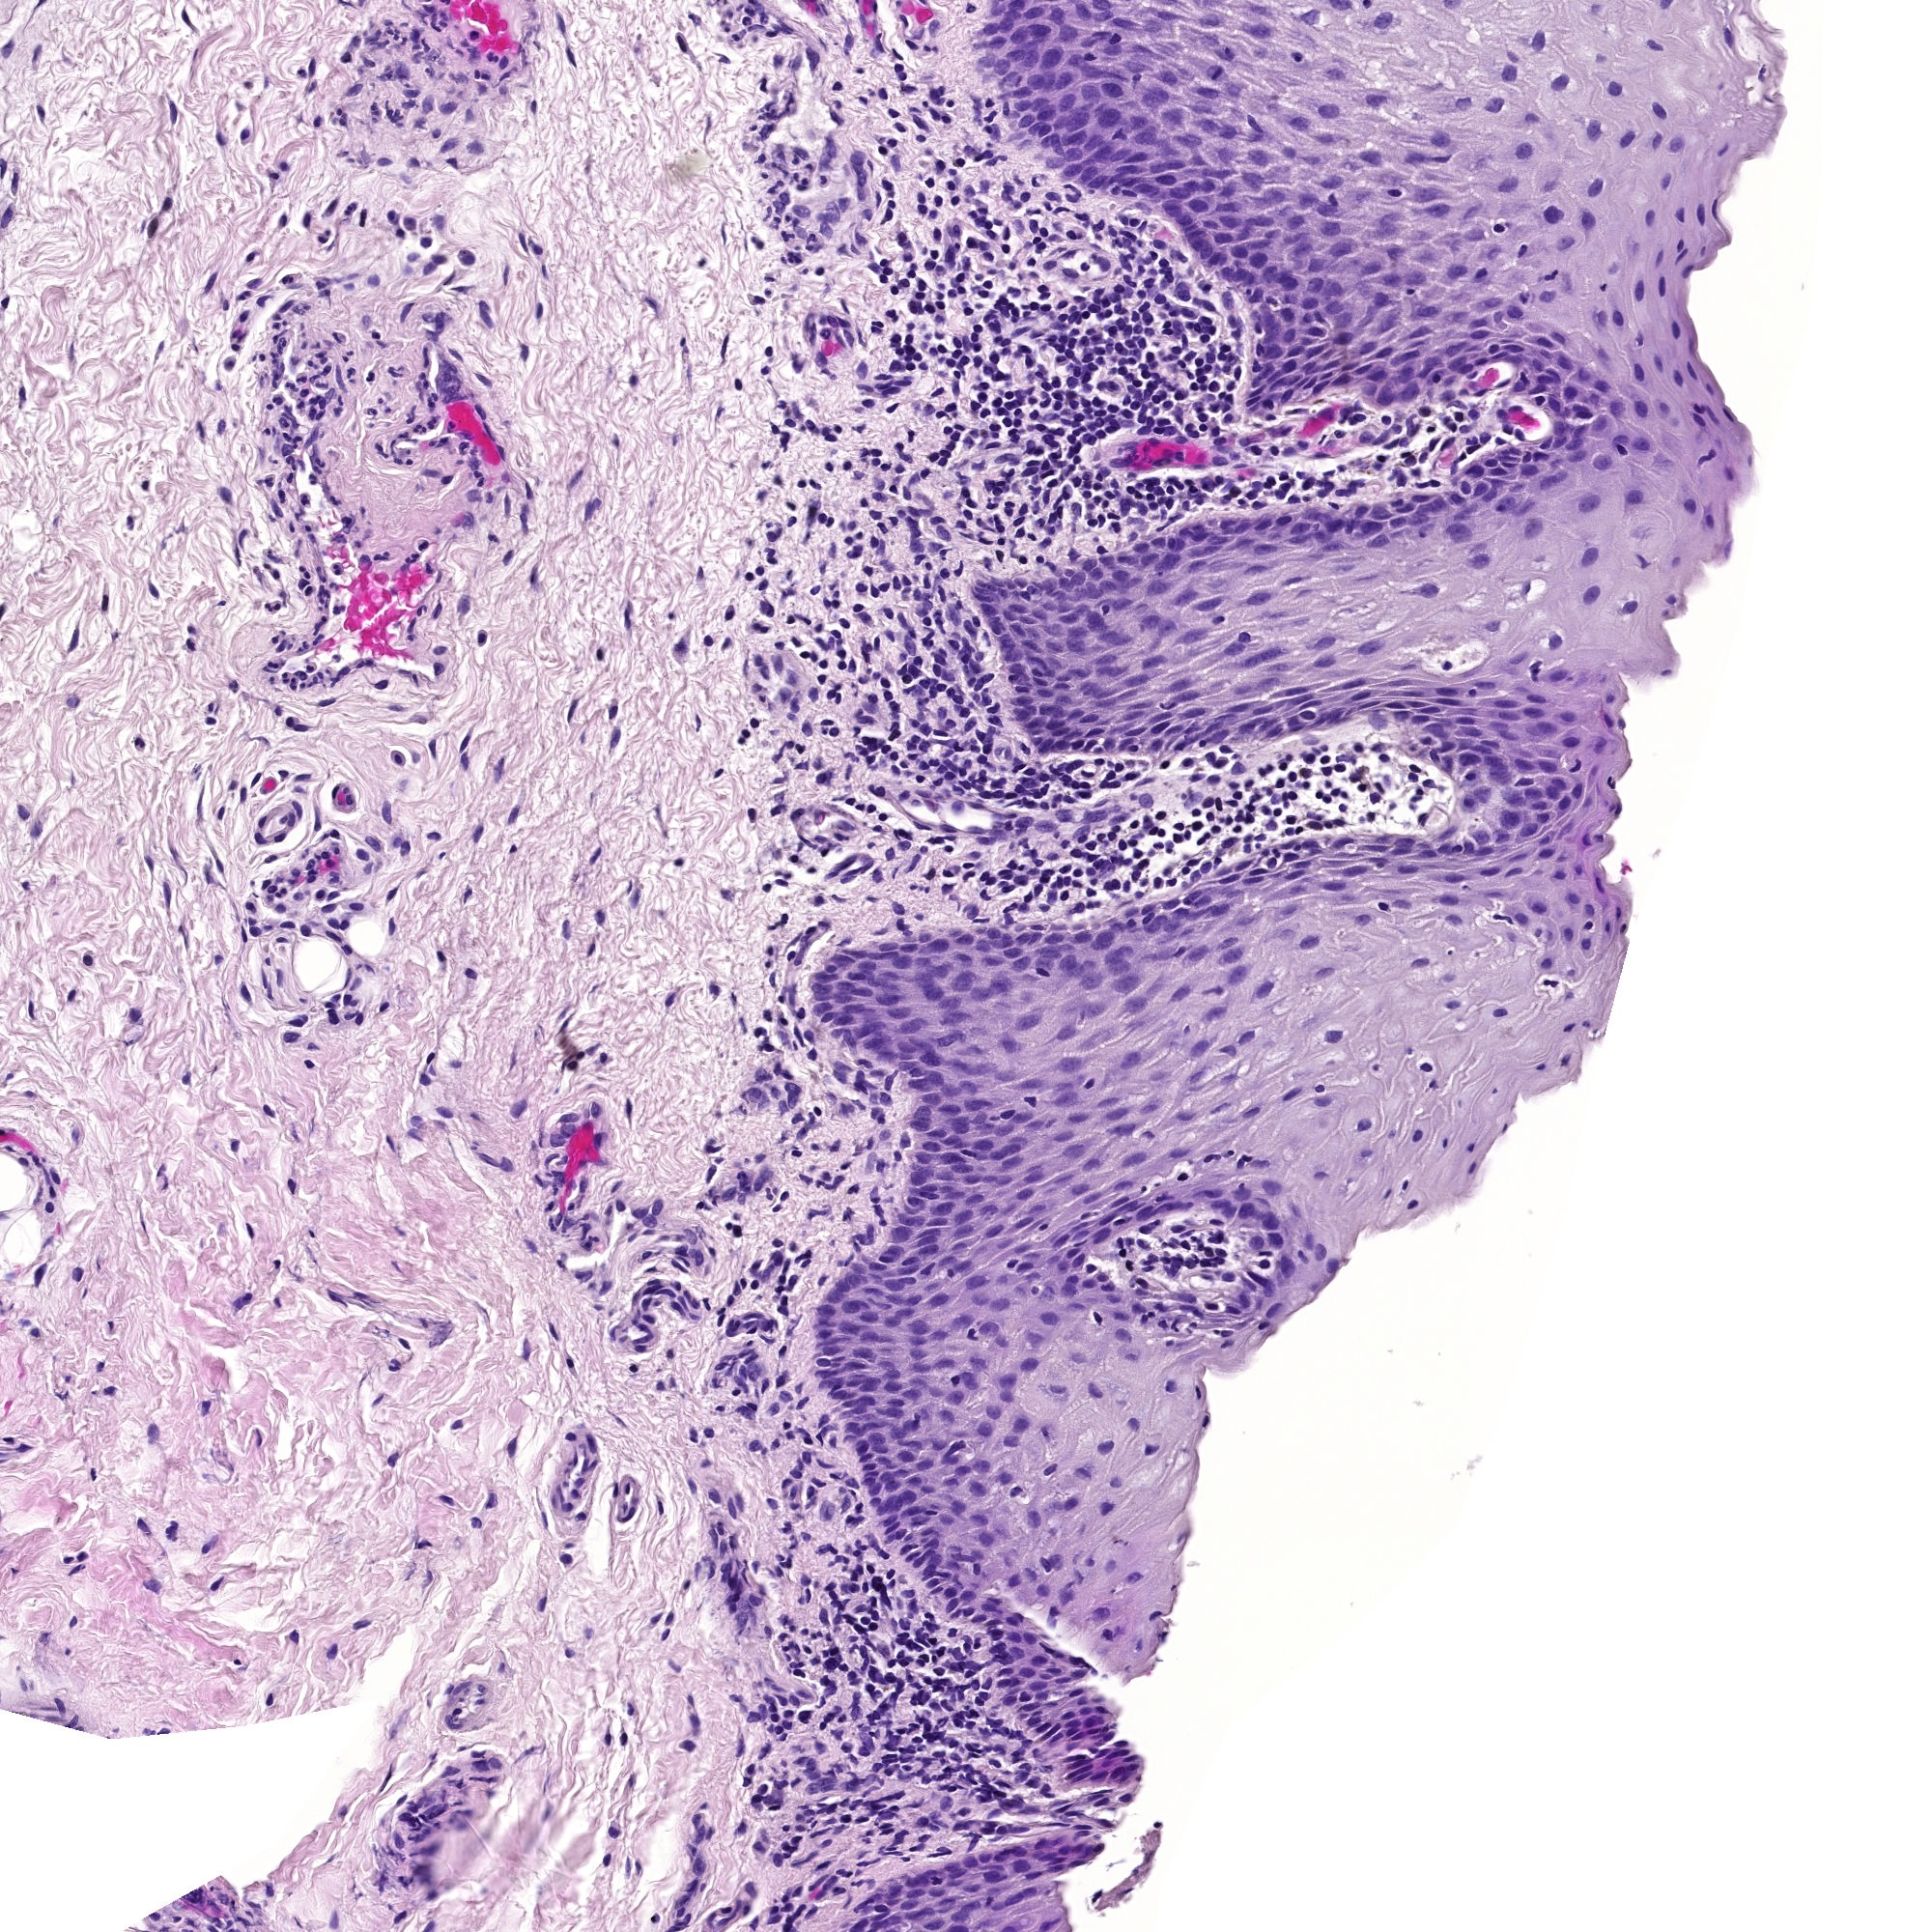epithelial: (1033, 78, 1040, 88), (1047, 57, 1054, 65), (1106, 113, 1113, 122), (1086, 88, 1093, 97), (1226, 205, 1235, 212), (1599, 458, 1608, 465), (1688, 366, 1695, 375), (1495, 771, 1506, 777), (1520, 778, 1530, 784), (1028, 57, 1035, 64), (1054, 12, 1062, 19), (1079, 9, 1086, 16), (1150, 96, 1157, 103), (1235, 249, 1242, 257), (1479, 271, 1486, 278), (1589, 501, 1596, 508), (1589, 593, 1596, 600), (1258, 258, 1263, 267), (1338, 377, 1346, 382), (1541, 377, 1550, 382), (922, 977, 931, 982), (1134, 1001, 1143, 1007), (1046, 78, 1053, 83), (1019, 101, 1024, 108), (1054, 145, 1062, 150), (1053, 159, 1058, 166), (1069, 152, 1074, 159), (1141, 186, 1146, 193), (1164, 177, 1169, 184), (1143, 133, 1150, 138), (1171, 117, 1178, 122), (1299, 120, 1304, 127), (1237, 272, 1244, 278), (1316, 262, 1322, 269), (1373, 96, 1378, 103), (1258, 28, 1265, 34), (1258, 200, 1263, 207), (1261, 219, 1269, 225), (1329, 226, 1334, 234), (1490, 301, 1495, 308), (1640, 442, 1645, 449), (1631, 495, 1638, 501), (1530, 527, 1537, 533), (1587, 556, 1592, 563), (1376, 510, 1384, 515), (1614, 405, 1619, 412), (1529, 709, 1534, 717), (1557, 672, 1562, 679), (885, 994, 890, 1001), (980, 943, 985, 950), (1077, 119, 1081, 127), (1493, 101, 1497, 110), (1663, 403, 1667, 412), (1453, 529, 1461, 533), (886, 945, 895, 948), (1019, 90, 1024, 96), (1100, 152, 1106, 157), (1136, 120, 1141, 126), (1168, 76, 1173, 81), (1155, 166, 1161, 172), (1177, 191, 1182, 196), (1208, 223, 1214, 228), (1258, 156, 1263, 161), (1164, 12, 1169, 18), (1100, 2, 1106, 7), (1309, 16, 1315, 21), (1277, 193, 1283, 198), (1293, 219, 1299, 225), (1284, 311, 1290, 317), (1315, 329, 1320, 334), (1453, 271, 1458, 276), (1428, 311, 1433, 317), (1405, 372, 1410, 377), (1511, 345, 1516, 350), (1591, 186, 1596, 191), (1647, 214, 1652, 219), (1637, 288, 1642, 294), (1536, 39, 1541, 44), (1396, 522, 1401, 527), (1394, 501, 1399, 506), (1139, 545, 1145, 550), (1051, 660, 1056, 665), (1546, 750, 1552, 755), (1477, 833, 1483, 839), (1451, 918, 1456, 924), (943, 1037, 948, 1042), (961, 978, 966, 984), (947, 1155, 952, 1161), (943, 1171, 948, 1177), (1067, 961, 1072, 966), (1111, 954, 1116, 959), (1007, 1145, 1012, 1150), (941, 1207, 947, 1212), (1162, 46, 1168, 51), (1332, 71, 1338, 76), (1122, 637, 1127, 642), (1039, 27, 1042, 34), (1062, 80, 1065, 87), (1044, 140, 1051, 143), (1072, 168, 1076, 175), (1173, 163, 1180, 166), (1223, 237, 1230, 241), (1118, 23, 1125, 27), (1311, 285, 1318, 288), (1286, 364, 1290, 372), (1504, 184, 1511, 188), (1548, 214, 1555, 218), (1660, 285, 1663, 292), (1559, 80, 1562, 87), (1640, 405, 1644, 412), (1686, 506, 1693, 510), (1414, 518, 1421, 522), (1560, 361, 1568, 364), (1582, 375, 1589, 379), (1479, 487, 1486, 490), (1376, 540, 1384, 543), (1477, 745, 1481, 752), (1578, 867, 1582, 874), (1568, 931, 1571, 938), (1419, 961, 1426, 964), (881, 954, 888, 957), (918, 1125, 925, 1129), (1086, 978, 1093, 982), (996, 41, 1000, 46), (1000, 65, 1005, 69), (1017, 35, 1021, 41), (1031, 11, 1035, 16), (1037, 103, 1040, 108), (1088, 172, 1092, 177), (1060, 122, 1063, 127), (1074, 136, 1077, 142), (1095, 180, 1099, 186), (1109, 88, 1115, 92), (1065, 30, 1069, 35), (1129, 170, 1134, 173), (1169, 203, 1175, 207), (1173, 211, 1178, 214), (1205, 249, 1208, 255), (1196, 205, 1201, 209), (1226, 189, 1230, 195), (1226, 131, 1230, 136), (1207, 124, 1210, 129), (1189, 140, 1194, 143), (1329, 108, 1332, 113), (1329, 138, 1332, 143), (1247, 278, 1251, 283), (1290, 283, 1293, 288), (1226, 271, 1230, 276), (1369, 156, 1373, 161), (1109, 48, 1115, 51), (1210, 18, 1214, 23), (1332, 288, 1338, 292), (1309, 301, 1313, 306), (1306, 364, 1311, 368), (1384, 228, 1387, 234), (1389, 278, 1392, 283), (1385, 395, 1391, 398), (1513, 311, 1518, 315), (1522, 150, 1527, 154), (1677, 214, 1683, 218), (1698, 212, 1702, 218), (1675, 143, 1679, 149), (1658, 110, 1663, 113), (1617, 317, 1621, 322), (1543, 338, 1546, 343), (1557, 334, 1560, 340), (1675, 377, 1681, 380), (1637, 372, 1642, 375), (1507, 73, 1511, 78), (1368, 525, 1373, 529), (1419, 495, 1422, 501), (1437, 504, 1442, 508), (1472, 471, 1477, 474), (1490, 462, 1495, 465), (1569, 389, 1573, 395), (1555, 373, 1559, 379), (1552, 402, 1557, 405), (1559, 439, 1562, 444), (1573, 442, 1578, 446), (1527, 467, 1530, 472), (1334, 524, 1338, 529), (1242, 540, 1246, 545), (1177, 543, 1182, 547), (1077, 577, 1083, 580), (1118, 573, 1123, 577), (1155, 586, 1159, 591), (984, 584, 989, 587), (1035, 612, 1040, 616), (1148, 617, 1152, 623), (1076, 630, 1079, 635), (1035, 658, 1040, 662), (1207, 602, 1212, 605), (1256, 596, 1261, 600), (1102, 701, 1106, 706), (1053, 722, 1056, 727), (1058, 741, 1062, 747), (1184, 695, 1189, 699), (1180, 743, 1184, 748), (1430, 708, 1433, 713), (1534, 699, 1539, 702), (1468, 729, 1472, 734), (1506, 732, 1509, 738), (1545, 725, 1550, 729), (1568, 741, 1573, 745), (1546, 764, 1550, 770), (1507, 817, 1511, 823), (1539, 801, 1545, 805), (1499, 835, 1504, 839), (1350, 869, 1353, 874), (1628, 607, 1631, 612), (1589, 908, 1592, 913), (1571, 899, 1576, 902), (1585, 941, 1589, 947), (1219, 908, 1224, 911), (1323, 971, 1329, 975), (1401, 904, 1405, 909), (1330, 1037, 1336, 1040), (828, 966, 833, 970), (851, 1005, 855, 1010), (840, 1017, 844, 1023), (901, 961, 906, 964), (872, 1042, 878, 1046), (908, 1024, 913, 1028), (904, 1046, 908, 1051), (932, 991, 938, 994), (932, 1077, 938, 1081), (938, 943, 941, 948), (1000, 980, 1003, 985), (982, 991, 987, 994), (971, 1047, 975, 1053), (1024, 1021, 1028, 1026), (931, 1097, 936, 1100), (922, 1111, 927, 1115), (1063, 1031, 1069, 1035), (1051, 938, 1056, 941), (1122, 982, 1127, 985), (1118, 968, 1122, 973), (980, 1143, 984, 1148), (945, 1185, 948, 1191), (901, 1231, 906, 1235), (929, 1247, 932, 1253), (895, 1246, 899, 1251), (888, 1254, 892, 1260), (1152, 25, 1157, 28), (1134, 67, 1139, 71), (1306, 198, 1309, 203), (1325, 207, 1329, 212), (1422, 193, 1428, 196), (1679, 255, 1684, 258), (1447, 379, 1451, 384), (1490, 625, 1495, 628), (991, 27, 994, 30), (1003, 25, 1007, 28), (1014, 55, 1017, 58), (1016, 4, 1019, 7), (1065, 101, 1067, 108), (1044, 127, 1047, 131), (1136, 156, 1139, 159), (1196, 234, 1200, 237), (1198, 242, 1201, 246), (1226, 219, 1230, 223), (1205, 186, 1212, 188), (1198, 161, 1201, 165), (1205, 92, 1208, 96), (1274, 373, 1277, 377), (1274, 350, 1277, 354), (1286, 334, 1290, 338), (1315, 349, 1318, 352), (1343, 318, 1346, 322), (1332, 306, 1336, 310), (1348, 364, 1352, 368), (1410, 276, 1414, 280), (1378, 299, 1382, 303), (1477, 333, 1484, 334), (1408, 352, 1412, 356), (1431, 359, 1435, 363), (1453, 349, 1456, 352), (1454, 363, 1458, 366), (1591, 129, 1594, 133), (1587, 219, 1591, 223), (1626, 136, 1629, 140), (1674, 329, 1677, 333), (1612, 87, 1615, 90), (1656, 363, 1660, 366), (1707, 520, 1711, 524), (1424, 508, 1431, 510), (1536, 363, 1539, 366), (1545, 352, 1548, 356), (1601, 384, 1605, 387), (1559, 425, 1560, 432), (1546, 442, 1550, 446), (1499, 469, 1502, 472), (1514, 449, 1518, 453), (1299, 525, 1302, 529), (1297, 538, 1300, 541), (1219, 540, 1223, 543), (1196, 536, 1200, 540), (1123, 557, 1127, 561), (1131, 580, 1134, 584), (987, 607, 991, 610), (1069, 616, 1072, 619), (1108, 633, 1111, 637), (1164, 625, 1168, 628), (1053, 628, 1056, 632), (1024, 617, 1028, 621), (1017, 628, 1021, 632), (994, 619, 998, 623), (1028, 644, 1031, 648), (1047, 671, 1051, 674), (1077, 671, 1081, 674), (1104, 658, 1108, 662), (1184, 594, 1187, 598), (1254, 568, 1258, 571), (1191, 633, 1194, 637), (1047, 708, 1051, 711), (1090, 717, 1093, 720), (1058, 729, 1062, 732), (1095, 729, 1099, 732), (1479, 559, 1483, 563), (1120, 727, 1123, 731), (1138, 731, 1141, 734), (1154, 743, 1157, 747), (1260, 708, 1263, 711), (1401, 713, 1405, 717), (1394, 702, 1398, 706), (1368, 702, 1371, 706), (1481, 791, 1484, 794), (1493, 759, 1497, 763), (1527, 828, 1530, 832), (1532, 793, 1536, 796), (1559, 784, 1562, 787), (1564, 801, 1568, 805), (1407, 867, 1410, 870), (1449, 899, 1453, 902), (1332, 885, 1336, 888), (1511, 869, 1514, 872), (1286, 909, 1293, 911), (1415, 1134, 1419, 1138), (1364, 1123, 1368, 1127), (1322, 1100, 1325, 1104), (821, 994, 824, 998), (862, 991, 865, 994), (874, 980, 878, 984), (862, 1028, 865, 1031), (885, 1054, 888, 1058), (952, 1017, 955, 1021), (904, 1065, 908, 1069), (920, 1083, 924, 1086), (1012, 950, 1016, 954), (1007, 1042, 1010, 1046), (966, 1086, 970, 1090), (948, 1090, 952, 1093), (929, 1145, 932, 1148), (916, 1177, 920, 1180), (973, 1104, 977, 1108), (1129, 1058, 1132, 1062), (1001, 1129, 1005, 1132), (1019, 1116, 1023, 1120), (955, 1194, 959, 1198), (874, 1265, 878, 1269), (1086, 41, 1090, 44), (1099, 34, 1106, 35), (1017, 134, 1021, 138), (1226, 48, 1230, 51), (1233, 88, 1237, 92), (1286, 150, 1290, 154), (1219, 173, 1223, 177), (1311, 159, 1315, 163), (1332, 180, 1336, 184), (1412, 156, 1415, 159), (1470, 211, 1474, 214), (1652, 44, 1656, 48), (1727, 35, 1730, 39), (1601, 317, 1605, 320), (1223, 564, 1226, 568), (1330, 545, 1334, 548), (1221, 448, 1224, 451), (1546, 479, 1550, 483), (1516, 487, 1520, 490), (1514, 658, 1518, 662), (1047, 605, 1051, 609), (1046, 111, 1047, 117), (1093, 140, 1095, 145), (1214, 258, 1215, 264), (1224, 150, 1226, 156), (1253, 177, 1254, 182), (1283, 274, 1284, 280), (1341, 338, 1346, 340), (1376, 375, 1378, 380), (1435, 209, 1437, 214), (1408, 393, 1414, 395), (1619, 437, 1624, 439), (1359, 510, 1364, 511), (1456, 497, 1458, 502), (1463, 488, 1468, 490), (1580, 428, 1582, 433), (1578, 453, 1580, 458), (1265, 522, 1267, 527), (1205, 548, 1210, 550), (1336, 713, 1338, 718), (1323, 662, 1325, 667), (1449, 759, 1451, 764), (1507, 713, 1509, 718), (1568, 715, 1569, 720), (1523, 763, 1529, 764), (1338, 840, 1339, 846), (1546, 959, 1548, 964), (844, 994, 846, 1000), (865, 962, 867, 968), (929, 1056, 931, 1062), (959, 1123, 961, 1129), (1081, 936, 1086, 938), (1008, 1162, 1014, 1164), (1665, 177, 1667, 182), (1713, 207, 1714, 212), (1686, 269, 1688, 274), (1012, 14, 1014, 18), (1024, 120, 1026, 124), (1191, 186, 1194, 188), (1104, 16, 1106, 19), (1254, 380, 1256, 384), (1276, 382, 1277, 386), (1295, 377, 1297, 380), (1320, 386, 1322, 389), (1295, 350, 1299, 352), (1306, 317, 1307, 320), (1330, 363, 1334, 364), (1362, 368, 1364, 372), (1369, 389, 1371, 393), (1368, 347, 1369, 350), (1384, 352, 1387, 354), (1371, 265, 1373, 269), (1440, 140, 1442, 143), (1419, 331, 1422, 333), (1658, 258, 1661, 260), (1405, 508, 1408, 510), (1313, 513, 1315, 517), (1242, 527, 1246, 529), (1226, 522, 1230, 524), (1148, 559, 1152, 561), (1168, 561, 1169, 564), (1106, 561, 1109, 563), (1088, 563, 1092, 564), (1097, 571, 1099, 575), (1106, 586, 1109, 587), (998, 584, 1001, 586), (980, 591, 984, 593), (982, 596, 984, 600), (1047, 584, 1051, 586), (1056, 593, 1060, 594), (1092, 617, 1095, 619), (1007, 614, 1010, 616), (1074, 642, 1076, 646), (1053, 644, 1054, 648), (994, 628, 996, 632), (1037, 681, 1040, 683), (1062, 685, 1063, 688), (1108, 669, 1109, 672), (1150, 660, 1154, 662), (1178, 685, 1182, 686), (1132, 679, 1136, 681), (1062, 699, 1063, 702), (1021, 713, 1023, 717), (1323, 642, 1325, 646), (1368, 646, 1369, 649), (1430, 589, 1431, 593), (1072, 732, 1074, 736), (1109, 743, 1111, 747), (1159, 727, 1161, 731), (1171, 729, 1175, 731), (1191, 711, 1194, 713), (1240, 706, 1242, 709), (1445, 688, 1447, 692), (1447, 699, 1449, 702), (1435, 727, 1437, 731), (1465, 718, 1467, 722), (1467, 759, 1470, 761), (1506, 702, 1507, 706), (1514, 796, 1516, 800), (1550, 791, 1553, 793), (1578, 789, 1580, 793), (1403, 840, 1407, 842), (1451, 878, 1454, 879), (1488, 870, 1490, 874), (1545, 839, 1546, 842), (1559, 876, 1562, 878), (1362, 918, 1364, 922), (1307, 939, 1311, 941), (823, 975, 824, 978), (819, 987, 821, 991), (855, 973, 856, 977), (844, 984, 846, 987), (856, 954, 858, 957), (899, 1012, 901, 1016), (948, 1000, 950, 1003), (961, 957, 962, 961), (939, 970, 941, 973), (991, 961, 993, 964), (993, 931, 994, 934), (1003, 941, 1005, 945), (950, 1108, 952, 1111), (1067, 1063, 1069, 1067), (1047, 952, 1051, 954), (1023, 938, 1024, 941), (938, 1132, 939, 1136), (922, 1157, 925, 1159), (962, 1166, 964, 1169), (1104, 938, 1108, 939), (994, 1154, 998, 1155), (936, 1221, 939, 1223), (908, 1219, 911, 1221), (929, 1231, 932, 1233), (1074, 58, 1077, 60), (1010, 73, 1012, 76), (1086, 71, 1090, 73), (1138, 48, 1141, 50), (1253, 124, 1256, 126), (1530, 117, 1534, 119), (1601, 57, 1603, 60), (1679, 244, 1681, 248), (1709, 387, 1711, 391), (1578, 407, 1582, 409), (1511, 478, 1514, 479), (1675, 561, 1677, 564), (1697, 407, 1698, 410), (1670, 598, 1674, 600), (1483, 685, 1486, 686), (1606, 720, 1610, 722), (1398, 681, 1399, 685), (1352, 683, 1353, 686), (1311, 702, 1315, 704), (1276, 614, 1279, 616), (1276, 665, 1279, 667), (1345, 559, 1348, 561), (1063, 607, 1065, 610), (1100, 602, 1104, 603), (1070, 586, 1072, 589), (1008, 582, 1012, 584), (1001, 591, 1003, 594), (1037, 127, 1039, 129), (1184, 219, 1185, 221), (1189, 226, 1191, 228), (1269, 271, 1270, 272), (1339, 249, 1341, 251), (1300, 249, 1302, 251), (1251, 402, 1253, 403), (1286, 395, 1288, 396), (1300, 382, 1302, 384), (1309, 382, 1311, 384), (1327, 373, 1329, 375), (1507, 456, 1509, 458), (1284, 520, 1286, 522), (1263, 548, 1265, 550), (1184, 531, 1185, 533), (1157, 541, 1159, 543), (1090, 587, 1092, 589), (1095, 593, 1097, 594), (1016, 607, 1017, 609), (1120, 603, 1122, 605), (1003, 639, 1005, 640), (1012, 655, 1014, 656), (1014, 669, 1016, 671), (1037, 672, 1039, 674), (1063, 676, 1065, 678), (1085, 685, 1086, 686), (1092, 688, 1093, 690), (1125, 694, 1127, 695), (1021, 688, 1023, 690), (1023, 699, 1024, 701), (1035, 724, 1037, 725), (1042, 747, 1044, 748), (1261, 655, 1263, 656), (1231, 649, 1233, 651), (1076, 713, 1077, 715), (1134, 715, 1136, 717), (1161, 717, 1162, 718), (1219, 736, 1221, 738), (1293, 690, 1295, 692), (1246, 727, 1247, 729), (1320, 718, 1322, 720), (1421, 718, 1422, 720), (1414, 702, 1415, 704), (1445, 747, 1447, 748), (1545, 816, 1546, 817), (1483, 849, 1484, 851), (1444, 847, 1445, 849), (1399, 851, 1401, 853), (1378, 846, 1380, 847), (1382, 839, 1384, 840), (1520, 855, 1522, 856), (1537, 908, 1539, 909), (1520, 918, 1522, 920), (1263, 989, 1265, 991), (1499, 1012, 1500, 1014), (1453, 1003, 1454, 1005), (840, 959, 842, 961), (821, 1007, 823, 1008), (826, 1016, 828, 1017), (888, 975, 890, 977), (964, 939, 966, 941), (1033, 938, 1035, 939), (971, 1178, 973, 1180), (925, 1240, 927, 1242), (1382, 19, 1384, 21), (1723, 150, 1725, 152), (1546, 295, 1548, 297), (1345, 568, 1346, 570), (1366, 579, 1368, 580), (1698, 419, 1700, 421), (1729, 474, 1730, 476), (1727, 414, 1729, 416), (1665, 672, 1667, 674), (1621, 724, 1622, 725), (1522, 688, 1523, 690), (1539, 559, 1541, 561), (1412, 694, 1414, 695), (1300, 699, 1302, 701), (1304, 591, 1306, 593), (1267, 679, 1269, 681), (1242, 688, 1244, 690), (1267, 725, 1269, 727), (1223, 718, 1224, 720), (1348, 711, 1350, 713), (1139, 706, 1141, 708), (1074, 598, 1076, 600), (1021, 582, 1023, 584), (1033, 632, 1035, 633), (1024, 678, 1026, 679)
fibroblast and endothelial: (855, 156, 862, 161), (846, 334, 853, 340), (941, 531, 947, 538), (973, 828, 980, 833), (1456, 400, 1461, 407), (796, 209, 803, 214), (271, 556, 278, 561), (55, 1173, 58, 1182), (281, 165, 287, 170), (352, 88, 357, 94), (759, 156, 764, 161), (860, 177, 865, 182), (860, 193, 865, 198), (817, 269, 823, 274), (1207, 303, 1212, 308), (858, 334, 863, 340), (1028, 469, 1033, 474), (794, 412, 800, 418), (384, 810, 389, 816), (288, 1184, 294, 1189), (267, 1698, 272, 1704), (481, 377, 487, 382), (456, 354, 462, 359), (430, 471, 435, 476), (563, 927, 568, 932), (794, 1031, 800, 1037), (1056, 225, 1062, 230), (649, 303, 656, 306), (897, 126, 904, 129), (794, 366, 801, 370), (1311, 824, 1318, 828), (278, 973, 281, 980), (267, 991, 271, 998), (104, 1389, 111, 1392), (379, 683, 386, 686), (722, 893, 729, 897), (1476, 391, 1483, 395), (1500, 382, 1507, 386), (796, 58, 800, 65), (798, 764, 805, 768), (4, 216, 9, 219), (165, 202, 170, 205), (172, 110, 175, 115), (184, 16, 188, 21), (242, 133, 246, 138), (274, 173, 278, 179), (4, 301, 7, 306), (209, 281, 212, 287), (281, 219, 285, 225), (451, 159, 455, 165), (483, 313, 487, 318), (366, 62, 372, 65), (412, 32, 416, 37), (538, 308, 541, 313), (810, 57, 816, 60), (918, 196, 924, 200), (881, 92, 885, 97), (893, 111, 897, 117), (1058, 207, 1063, 211), (1069, 251, 1074, 255), (1070, 271, 1074, 276), (906, 492, 909, 497), (980, 540, 985, 543), (832, 318, 835, 324), (810, 329, 816, 333), (817, 359, 823, 363), (860, 370, 865, 373), (1426, 780, 1431, 784), (232, 784, 235, 789), (165, 893, 170, 897), (258, 821, 264, 824), (295, 807, 301, 810), (290, 817, 294, 823), (432, 745, 435, 750), (464, 759, 467, 764), (511, 812, 515, 817), (242, 993, 248, 996), (248, 906, 253, 909), (391, 925, 395, 931), (387, 892, 391, 897), (248, 1230, 253, 1233), (99, 1364, 103, 1369), (258, 1437, 262, 1442), (425, 356, 428, 361), (446, 478, 451, 481), (506, 504, 510, 510), (462, 605, 465, 610), (632, 379, 635, 384), (614, 441, 617, 446), (625, 616, 628, 621), (678, 644, 683, 648), (497, 766, 501, 771), (600, 916, 603, 922), (913, 860, 916, 865), (803, 839, 807, 844), (1378, 437, 1384, 441), (1007, 188, 1012, 191), (1228, 299, 1231, 304), (1177, 322, 1180, 327), (1056, 347, 1062, 350), (437, 258, 442, 262), (308, 439, 313, 442), (878, 481, 881, 487), (915, 543, 918, 548), (1152, 441, 1157, 444), (1072, 554, 1076, 559), (1192, 563, 1196, 568), (1444, 393, 1449, 396), (879, 545, 883, 550), (909, 644, 913, 649), (794, 702, 798, 708), (805, 729, 810, 732), (241, 533, 244, 538), (333, 789, 338, 793), (775, 809, 778, 814), (849, 754, 855, 757), (39, 110, 42, 113), (34, 55, 37, 58), (14, 180, 18, 184), (150, 225, 154, 228), (248, 257, 251, 260), (331, 203, 333, 211), (304, 219, 308, 223), (460, 288, 464, 292), (504, 274, 508, 278), (403, 310, 407, 313), (446, 106, 449, 110), (426, 103, 428, 110), (412, 161, 416, 165), (410, 92, 414, 96), (534, 248, 538, 251), (722, 234, 725, 237), (909, 42, 913, 46), (895, 53, 899, 57), (786, 27, 789, 30), (770, 32, 773, 35), (934, 113, 938, 117), (846, 41, 849, 44), (856, 166, 860, 170), (886, 184, 890, 188), (858, 237, 862, 241), (865, 212, 869, 216), (842, 304, 846, 308), (936, 234, 939, 237), (1100, 518, 1104, 522), (842, 324, 846, 327), (881, 375, 885, 379), (1017, 520, 1021, 524), (993, 444, 1000, 446), (789, 421, 793, 425), (1231, 801, 1235, 805), (198, 800, 202, 803), (278, 835, 281, 839), (465, 893, 469, 897), (331, 934, 334, 938), (30, 1010, 34, 1014), (69, 994, 73, 998), (331, 1295, 334, 1299), (37, 1274, 41, 1277), (393, 1263, 396, 1267), (377, 1398, 380, 1401), (511, 1444, 513, 1451), (488, 1500, 492, 1504), (423, 1543, 426, 1546), (359, 1622, 363, 1626), (331, 1651, 334, 1654), (294, 1635, 297, 1638), (570, 709, 573, 713), (669, 614, 672, 617), (612, 709, 616, 713), (697, 722, 701, 725), (667, 1000, 671, 1003), (975, 803, 978, 807), (816, 899, 823, 901), (800, 954, 803, 957), (947, 826, 950, 830), (821, 839, 824, 842), (1431, 442, 1435, 446), (502, 62, 506, 65), (474, 145, 478, 149), (800, 150, 803, 154), (837, 103, 840, 106), (893, 159, 897, 163), (970, 7, 973, 11), (1072, 196, 1076, 200), (1079, 216, 1086, 218), (1122, 218, 1125, 221), (1157, 242, 1161, 246), (1178, 255, 1182, 258), (1123, 262, 1127, 265), (1104, 262, 1108, 265), (1125, 278, 1129, 281), (1083, 402, 1086, 405), (1026, 359, 1030, 363), (922, 281, 924, 288), (938, 334, 941, 338), (948, 255, 952, 258), (824, 226, 828, 230), (334, 336, 338, 340), (225, 492, 228, 495), (349, 370, 352, 373), (430, 421, 433, 425), (504, 476, 508, 479), (856, 472, 860, 476), (876, 495, 879, 499), (906, 456, 909, 460), (911, 522, 915, 525), (932, 545, 936, 548), (1113, 481, 1116, 485), (1127, 444, 1131, 448), (1219, 458, 1223, 462), (1327, 410, 1330, 414), (1292, 497, 1295, 501), (1463, 389, 1467, 393), (954, 614, 957, 617), (975, 667, 978, 671), (964, 642, 968, 646), (939, 711, 943, 715), (832, 550, 835, 554), (901, 619, 904, 623), (927, 582, 931, 586), (812, 655, 816, 658), (782, 695, 786, 699), (929, 633, 932, 637), (435, 610, 439, 614), (391, 708, 398, 709), (315, 639, 318, 642), (318, 570, 320, 577), (152, 591, 156, 594), (280, 644, 283, 648), (73, 637, 74, 644), (301, 775, 304, 778), (780, 747, 784, 750), (846, 771, 847, 778), (241, 317, 246, 318), (469, 113, 471, 119), (448, 278, 453, 280), (522, 239, 524, 244), (904, 18, 906, 23), (878, 196, 879, 202), (916, 122, 922, 124), (913, 108, 918, 110), (1003, 456, 1008, 458), (913, 476, 915, 481), (899, 382, 904, 384), (1017, 331, 1023, 333), (219, 810, 221, 816), (241, 794, 246, 796), (218, 865, 223, 867), (476, 832, 478, 837), (241, 934, 246, 936), (165, 1184, 166, 1189), (456, 1422, 458, 1428), (391, 1456, 393, 1461), (74, 1569, 80, 1571), (596, 655, 602, 656), (614, 736, 616, 741), (432, 835, 437, 837), (265, 80, 267, 85), (722, 58, 727, 60), (780, 154, 782, 159), (832, 214, 837, 216), (985, 154, 991, 156), (1507, 428, 1509, 433), (1127, 234, 1132, 235), (1086, 375, 1088, 380), (842, 248, 844, 253), (221, 425, 223, 430), (469, 517, 471, 522), (828, 437, 833, 439), (1070, 449, 1072, 455), (1007, 511, 1012, 513), (1008, 502, 1014, 504), (1184, 502, 1185, 508), (1410, 458, 1412, 464), (812, 692, 814, 697), (869, 708, 874, 709), (761, 671, 766, 672), (437, 577, 439, 582), (437, 649, 442, 651), (278, 709, 280, 715), (71, 701, 76, 702), (37, 828, 39, 833), (260, 791, 265, 793), (218, 138, 221, 140), (311, 67, 313, 71), (311, 85, 313, 88), (449, 142, 451, 145), (380, 161, 384, 163), (561, 23, 563, 27), (570, 57, 573, 58), (533, 106, 534, 110), (502, 76, 506, 78), (708, 124, 709, 127), (763, 87, 764, 90), (778, 207, 782, 209), (869, 163, 870, 166), (886, 214, 888, 218), (863, 99, 867, 101), (939, 163, 941, 166), (931, 27, 934, 28), (1033, 182, 1037, 184), (1046, 541, 1047, 545), (936, 518, 939, 520), (1046, 497, 1047, 501), (890, 409, 893, 410), (724, 345, 725, 349), (718, 410, 720, 414), (1421, 814, 1422, 817), (984, 895, 987, 897), (258, 837, 260, 840), (464, 743, 465, 747), (347, 980, 349, 984), (264, 980, 265, 984), (159, 1168, 161, 1171), (265, 1109, 269, 1111), (205, 1548, 207, 1552), (444, 1499, 448, 1500), (214, 1583, 216, 1587), (575, 478, 579, 479), (527, 490, 529, 494), (510, 556, 511, 559), (589, 510, 591, 513), (522, 352, 525, 354), (699, 571, 701, 575), (372, 842, 373, 846), (439, 955, 442, 957), (635, 897, 637, 901), (591, 948, 593, 952), (563, 1024, 564, 1028), (918, 824, 920, 828), (837, 835, 840, 837), (1410, 421, 1412, 425), (1472, 448, 1476, 449), (1391, 444, 1394, 446), (1244, 863, 1246, 867), (1230, 878, 1233, 879), (405, 104, 409, 106), (435, 133, 437, 136), (428, 9, 432, 11), (449, 41, 451, 44), (465, 41, 467, 44), (458, 51, 460, 55), (441, 74, 442, 78), (481, 88, 485, 90), (807, 165, 810, 166), (803, 180, 807, 182), (878, 44, 881, 46), (842, 202, 844, 205), (970, 189, 971, 193), (984, 184, 985, 188), (1016, 180, 1019, 182), (1049, 195, 1053, 196), (1465, 366, 1467, 370), (1513, 409, 1516, 410), (1500, 414, 1504, 416), (1099, 225, 1100, 228), (1152, 255, 1155, 257), (1095, 246, 1099, 248), (1113, 230, 1115, 234), (1077, 297, 1081, 299), (1097, 290, 1100, 292), (1053, 237, 1056, 239), (1047, 265, 1051, 267), (1044, 294, 1046, 297), (1141, 306, 1145, 308), (1184, 294, 1185, 297), (1205, 320, 1208, 322), (1120, 322, 1123, 324), (1146, 317, 1150, 318), (1189, 354, 1191, 357), (1023, 349, 1026, 350), (1030, 400, 1033, 402), (1039, 426, 1042, 428), (1056, 432, 1060, 433), (876, 322, 879, 324), (796, 219, 798, 223), (428, 267, 432, 269), (347, 287, 350, 288), (260, 299, 264, 301), (285, 306, 288, 308), (373, 278, 375, 281), (412, 255, 414, 258), (234, 333, 237, 334), (235, 345, 237, 349), (274, 326, 278, 327), (276, 336, 278, 340), (340, 377, 341, 380), (318, 354, 322, 356), (311, 377, 313, 380), (320, 386, 324, 387), (393, 373, 396, 375), (200, 428, 202, 432), (329, 393, 331, 396), (318, 412, 322, 414), (278, 510, 280, 513), (265, 432, 269, 433), (377, 446, 380, 448), (398, 460, 400, 464), (460, 446, 464, 448), (465, 435, 469, 437), (451, 363, 453, 366), (449, 391, 453, 393), (501, 449, 502, 453), (472, 495, 476, 497), (674, 439, 676, 442), (773, 428, 777, 430), (763, 465, 766, 467), (791, 504, 793, 508), (1131, 387, 1132, 391), (899, 513, 902, 515), (925, 511, 927, 515), (959, 524, 962, 525), (957, 571, 961, 573), (1031, 462, 1035, 464), (989, 504, 993, 506), (1095, 455, 1097, 458), (1106, 471, 1108, 474), (1159, 462, 1161, 465), (1056, 499, 1060, 501), (1014, 487, 1016, 490), (1060, 511, 1062, 515), (1146, 448, 1148, 451), (1143, 508, 1145, 511), (1269, 416, 1272, 418), (1368, 435, 1369, 439), (1200, 499, 1201, 502), (1238, 465, 1242, 467), (1422, 456, 1426, 458), (1401, 478, 1403, 481), (1461, 455, 1465, 456), (1499, 441, 1500, 444), (991, 709, 994, 711), (970, 626, 971, 630), (978, 655, 980, 658), (888, 564, 890, 568), (890, 635, 893, 637), (777, 663, 778, 667), (791, 678, 794, 679), (817, 642, 821, 644), (823, 568, 826, 570), (791, 717, 794, 718), (842, 524, 844, 527), (761, 584, 764, 586), (725, 642, 729, 644), (745, 667, 747, 671), (757, 686, 761, 688), (410, 623, 414, 625), (326, 702, 329, 704), (359, 665, 363, 667), (237, 552, 239, 556), (345, 789, 349, 791), (775, 757, 778, 759), (814, 764, 817, 766), (837, 798, 840, 800), (317, 122, 318, 124), (874, 267, 876, 269), (1422, 823, 1424, 824), (149, 863, 150, 865), (111, 1325, 113, 1327), (278, 1263, 280, 1265), (533, 579, 534, 580), (594, 855, 596, 856), (846, 863, 847, 865), (851, 870, 853, 872), (980, 920, 982, 922), (1307, 842, 1309, 844), (1302, 863, 1304, 865), (195, 51, 196, 53), (301, 71, 303, 73), (343, 152, 345, 154), (350, 159, 352, 161), (341, 120, 343, 122), (403, 23, 405, 25), (789, 101, 791, 103), (780, 147, 782, 149), (989, 117, 991, 119), (927, 152, 929, 154), (1005, 196, 1007, 198), (1481, 361, 1483, 363), (1474, 373, 1476, 375), (1139, 269, 1141, 271), (1141, 225, 1143, 226), (1131, 249, 1132, 251), (1085, 288, 1086, 290), (1033, 274, 1035, 276), (1072, 317, 1074, 318), (1235, 333, 1237, 334), (1237, 372, 1238, 373), (1095, 338, 1097, 340), (1228, 396, 1230, 398), (1226, 407, 1228, 409), (1035, 333, 1037, 334), (1028, 391, 1030, 393), (989, 317, 991, 318), (991, 234, 993, 235), (895, 364, 897, 366), (989, 255, 991, 257), (855, 249, 856, 251), (276, 317, 278, 318), (276, 375, 278, 377), (301, 326, 303, 327), (310, 363, 311, 364), (425, 384, 426, 386), (225, 304, 226, 306), (71, 349, 73, 350), (21, 393, 23, 395), (391, 442, 393, 444), (444, 439, 446, 441), (410, 419, 412, 421), (479, 410, 481, 412), (488, 430, 490, 432), (522, 518, 524, 520), (909, 433, 911, 435), (938, 391, 939, 393), (828, 465, 830, 467), (812, 483, 814, 485), (791, 520, 793, 522), (893, 518, 895, 520), (899, 469, 901, 471), (918, 557, 920, 559), (966, 536, 968, 538), (1077, 446, 1079, 448), (989, 527, 991, 529), (1118, 462, 1120, 464), (1131, 474, 1132, 476), (1033, 479, 1035, 481), (978, 465, 980, 467), (1000, 481, 1001, 483), (1053, 518, 1054, 520), (1090, 506, 1092, 508), (1125, 506, 1127, 508), (1051, 566, 1053, 568), (1180, 439, 1182, 441), (1178, 455, 1180, 456), (1251, 494, 1253, 495), (1256, 504, 1258, 506), (1286, 430, 1288, 432), (1320, 455, 1322, 456), (1334, 506, 1336, 508), (1131, 536, 1132, 538), (1327, 472, 1329, 474), (1495, 481, 1497, 483), (1491, 494, 1493, 495), (1408, 667, 1410, 669), (985, 699, 987, 701), (941, 593, 943, 594), (966, 669, 968, 671), (955, 635, 957, 637), (985, 635, 987, 637), (975, 697, 977, 699), (970, 704, 971, 706), (925, 596, 927, 598), (826, 722, 828, 724), (832, 586, 833, 587), (908, 690, 909, 692), (991, 731, 993, 732), (939, 621, 941, 623), (856, 729, 858, 731), (757, 660, 759, 662), (437, 669, 439, 671), (402, 671, 403, 672), (421, 720, 423, 722), (368, 662, 370, 663), (333, 683, 334, 685), (327, 672, 329, 674), (310, 685, 311, 686), (267, 566, 269, 568), (211, 706, 212, 708), (265, 740, 267, 741), (23, 812, 25, 814), (340, 801, 341, 803), (349, 800, 350, 801), (656, 810, 658, 812), (773, 731, 775, 732), (778, 780, 780, 782)
inflammatory: (333, 564, 341, 573), (299, 373, 304, 382), (784, 234, 791, 239), (766, 605, 771, 612), (269, 605, 278, 609), (464, 258, 469, 264), (1069, 232, 1074, 237), (770, 111, 775, 117), (810, 235, 816, 241), (1063, 490, 1069, 495), (1258, 347, 1263, 352), (1288, 817, 1293, 823), (1373, 794, 1378, 800), (303, 499, 308, 504), (418, 426, 423, 432), (1456, 416, 1461, 421), (334, 607, 340, 612), (824, 331, 828, 338), (1192, 874, 1200, 878), (395, 1362, 398, 1369), (292, 681, 295, 688), (253, 281, 257, 287), (287, 278, 292, 281), (425, 239, 428, 244), (743, 19, 748, 23), (754, 299, 759, 303), (786, 216, 789, 221), (784, 196, 787, 202), (927, 182, 932, 186), (770, 188, 773, 193), (791, 257, 796, 260), (288, 384, 294, 387), (255, 929, 258, 934), (280, 890, 283, 895), (1481, 439, 1486, 442), (1468, 775, 1472, 780), (490, 538, 495, 541), (410, 557, 416, 561), (379, 556, 384, 559), (230, 685, 235, 688), (271, 665, 280, 667), (474, 34, 478, 37), (681, 44, 685, 48), (938, 198, 941, 202), (881, 149, 885, 152), (897, 67, 901, 71), (920, 207, 924, 211), (1083, 265, 1086, 269), (1269, 403, 1272, 407), (1205, 865, 1208, 869), (479, 639, 483, 642), (136, 740, 140, 743), (278, 398, 281, 402), (430, 402, 433, 405), (1111, 384, 1115, 387), (1074, 506, 1077, 510), (1256, 485, 1260, 488), (1277, 492, 1281, 495), (1233, 455, 1237, 458), (888, 612, 892, 616), (895, 584, 899, 587), (938, 658, 941, 662), (913, 669, 916, 672), (761, 697, 764, 701), (103, 602, 106, 605), (241, 295, 246, 297), (943, 119, 948, 120), (809, 425, 814, 426), (1470, 441, 1476, 442), (1422, 412, 1428, 414), (1468, 800, 1470, 805), (370, 375, 372, 380), (924, 471, 925, 476), (1023, 508, 1024, 513), (1100, 550, 1106, 552), (1148, 481, 1154, 483), (1300, 444, 1306, 446), (794, 639, 796, 644), (851, 524, 853, 529), (285, 676, 287, 681), (333, 586, 338, 587), (821, 775, 823, 780), (747, 12, 750, 14), (752, 127, 755, 129), (768, 292, 770, 295), (901, 76, 904, 78), (890, 142, 893, 143), (920, 136, 922, 140), (890, 311, 893, 313), (835, 85, 839, 87), (1256, 364, 1258, 368), (451, 425, 455, 426), (423, 545, 425, 548), (396, 759, 398, 763), (1472, 412, 1476, 414), (1024, 195, 1026, 198), (1168, 274, 1171, 276), (1148, 281, 1150, 285), (1118, 310, 1122, 311), (1159, 297, 1162, 299), (1063, 338, 1065, 341), (303, 391, 306, 393), (311, 478, 313, 481), (317, 460, 318, 464), (285, 423, 287, 426), (479, 479, 481, 483), (345, 518, 347, 522), (784, 437, 787, 439), (869, 402, 870, 405), (985, 370, 989, 372), (1039, 449, 1040, 453), (1111, 513, 1113, 517), (1148, 488, 1152, 490), (1047, 472, 1051, 474), (1014, 437, 1016, 441), (1228, 416, 1231, 418), (1214, 432, 1217, 433), (1219, 439, 1221, 442), (950, 722, 952, 725), (867, 570, 870, 571), (851, 663, 853, 667), (915, 724, 918, 725), (901, 655, 904, 656), (920, 702, 922, 706), (924, 729, 927, 731), (308, 667, 311, 669), (301, 674, 303, 678), (304, 646, 308, 648), (308, 589, 311, 591), (301, 582, 304, 584), (340, 540, 343, 541), (211, 720, 214, 722), (333, 832, 334, 835), (863, 750, 865, 754), (879, 791, 881, 794), (764, 175, 766, 177), (780, 182, 782, 184), (1136, 76, 1138, 78), (1230, 384, 1231, 386), (260, 356, 262, 357), (230, 363, 232, 364), (143, 485, 145, 487), (311, 400, 313, 402), (311, 412, 313, 414), (269, 481, 271, 483), (290, 458, 292, 460), (403, 435, 405, 437), (435, 396, 437, 398), (456, 396, 458, 398), (476, 474, 478, 476), (950, 405, 952, 407), (939, 412, 941, 414), (892, 487, 893, 488), (1100, 359, 1102, 361), (1138, 395, 1139, 396), (1044, 465, 1046, 467), (1021, 533, 1023, 534), (1000, 554, 1001, 556), (1159, 490, 1161, 492), (1284, 487, 1286, 488), (1205, 485, 1207, 487), (1520, 435, 1522, 437), (968, 725, 970, 727), (994, 720, 996, 722), (954, 644, 955, 646), (980, 736, 982, 738), (863, 616, 865, 617), (916, 594, 918, 596), (855, 552, 856, 554), (778, 644, 780, 646), (865, 655, 867, 656), (987, 564, 989, 566), (729, 614, 731, 616), (763, 628, 764, 630), (426, 568, 428, 570), (410, 637, 412, 639), (364, 557, 366, 559), (271, 679, 272, 681), (290, 720, 292, 722), (283, 819, 285, 821), (924, 747, 925, 748)
lymphocyte: (1424, 1065, 1431, 1072), (911, 1198, 918, 1205), (966, 511, 971, 518), (985, 676, 993, 681), (885, 269, 890, 274), (952, 198, 957, 203), (973, 334, 978, 340), (1086, 356, 1092, 361), (874, 449, 879, 455), (957, 697, 962, 702), (860, 586, 865, 591), (1088, 890, 1093, 895), (1290, 773, 1295, 778), (1382, 755, 1387, 761), (1361, 786, 1366, 791), (1261, 1261, 1267, 1267), (1205, 1247, 1210, 1253), (1201, 414, 1205, 421), (1108, 492, 1111, 499), (1150, 828, 1154, 835), (1177, 835, 1180, 842), (881, 260, 885, 265), (959, 159, 962, 165), (959, 276, 964, 280), (959, 288, 964, 292), (1033, 304, 1037, 310), (985, 283, 991, 287), (1001, 299, 1005, 304), (971, 403, 977, 407), (1031, 412, 1035, 418), (1109, 329, 1115, 333), (1154, 398, 1159, 402), (1207, 364, 1210, 370), (1085, 492, 1088, 497), (1076, 458, 1079, 464), (1111, 405, 1115, 410), (1132, 403, 1138, 407), (1145, 372, 1148, 377), (1139, 292, 1143, 297), (1090, 520, 1095, 524), (1077, 416, 1083, 419), (1072, 403, 1077, 407), (1007, 403, 1010, 409), (932, 455, 938, 458), (1069, 437, 1074, 441), (1177, 395, 1182, 398), (800, 481, 803, 487), (748, 573, 752, 579), (1021, 557, 1026, 561), (1104, 607, 1108, 612), (943, 571, 948, 575), (904, 676, 908, 681), (893, 754, 897, 759), (870, 745, 876, 748), (869, 697, 874, 701), (752, 722, 757, 725), (743, 732, 748, 736), (706, 639, 709, 644), (789, 617, 793, 623), (828, 692, 833, 695), (870, 805, 874, 810), (980, 757, 985, 761), (1065, 775, 1069, 780), (1132, 823, 1138, 826), (1077, 870, 1081, 876), (1062, 893, 1067, 897), (1162, 763, 1168, 766), (1325, 768, 1329, 773), (1338, 764, 1341, 770), (1325, 796, 1329, 801), (1290, 793, 1295, 796), (1435, 377, 1438, 382), (1621, 448, 1624, 453), (1385, 418, 1389, 423), (1378, 456, 1384, 460), (1327, 485, 1332, 488), (881, 586, 886, 589), (975, 617, 978, 623), (1341, 807, 1346, 810), (1357, 747, 1362, 750), (1272, 860, 1276, 865), (1382, 904, 1385, 909), (1033, 1288, 1037, 1293), (816, 1108, 821, 1111), (821, 1361, 824, 1366), (888, 1573, 892, 1578), (1522, 375, 1525, 380), (874, 513, 878, 518), (881, 278, 885, 281), (893, 288, 897, 292), (909, 272, 913, 276), (916, 294, 920, 297), (938, 303, 941, 306), (932, 253, 936, 257), (985, 223, 989, 226), (890, 202, 893, 205), (931, 212, 934, 216), (1035, 237, 1039, 241), (1042, 230, 1046, 234), (977, 327, 980, 331), (982, 292, 985, 295), (1008, 304, 1012, 308), (901, 235, 904, 239), (908, 338, 911, 341), (908, 349, 911, 352), (1008, 393, 1012, 396), (994, 402, 998, 405), (982, 412, 985, 416), (1005, 421, 1008, 425), (950, 361, 954, 364), (977, 361, 980, 364), (993, 357, 996, 361), (1016, 421, 1019, 425), (1054, 382, 1058, 386), (1042, 287, 1046, 290), (1175, 349, 1178, 352), (1192, 384, 1196, 387), (1212, 384, 1215, 387), (1201, 425, 1205, 428), (1191, 488, 1194, 492), (1148, 495, 1152, 499), (1095, 485, 1099, 488), (1085, 474, 1088, 478), (1092, 306, 1095, 310), (1062, 303, 1065, 306), (1136, 327, 1139, 331), (1120, 370, 1123, 373), (1136, 380, 1139, 384), (1141, 418, 1145, 421), (1150, 418, 1152, 425), (1143, 430, 1146, 433), (1104, 502, 1108, 506), (821, 517, 824, 520), (876, 460, 879, 464), (844, 464, 847, 467), (945, 428, 948, 432), (1109, 428, 1113, 432), (1154, 504, 1157, 508), (1497, 226, 1500, 230), (1258, 329, 1261, 333), (1081, 340, 1085, 343), (1162, 262, 1166, 265), (1070, 380, 1074, 384), (1122, 350, 1125, 354), (837, 428, 840, 432), (883, 465, 886, 469), (847, 538, 851, 541), (934, 669, 938, 672), (939, 685, 943, 688), (964, 709, 968, 713), (863, 738, 867, 741), (925, 619, 929, 623), (927, 564, 931, 568), (821, 676, 824, 679), (881, 816, 885, 819), (982, 778, 985, 782), (1097, 761, 1100, 764), (1118, 766, 1122, 770), (1042, 775, 1046, 778), (996, 793, 1000, 796), (1111, 835, 1115, 839), (1159, 814, 1162, 817), (968, 863, 971, 867), (1194, 824, 1198, 828), (1074, 853, 1077, 856), (1322, 757, 1325, 761), (1316, 793, 1320, 796), (1276, 810, 1279, 814), (1235, 794, 1242, 796), (1391, 191, 1394, 195), (1283, 474, 1286, 478), (1345, 492, 1348, 495), (1334, 791, 1338, 794), (1306, 784, 1309, 787), (1299, 826, 1302, 830), (1244, 635, 1247, 639), (1470, 690, 1474, 694), (1120, 1253, 1127, 1254), (1086, 1085, 1093, 1086), (787, 1713, 791, 1716), (773, 1716, 777, 1720), (1555, 639, 1559, 642), (786, 1422, 789, 1426), (855, 1552, 858, 1555), (1330, 198, 1334, 202), (1440, 157, 1444, 161), (1256, 292, 1260, 295), (1157, 430, 1161, 433), (1051, 481, 1054, 485), (1644, 561, 1647, 564), (1534, 669, 1537, 672), (924, 683, 927, 686), (189, 628, 193, 632), (950, 182, 952, 188), (1005, 246, 1007, 251), (1085, 313, 1086, 318), (895, 336, 897, 341), (1201, 377, 1203, 382), (1189, 479, 1191, 485), (1090, 439, 1095, 441), (1168, 322, 1169, 327), (819, 663, 824, 665), (856, 605, 858, 610), (869, 740, 874, 741), (801, 653, 807, 655), (839, 655, 844, 656), (839, 665, 844, 667), (916, 778, 922, 780), (1120, 846, 1125, 847), (1141, 863, 1146, 865), (872, 593, 878, 594), (870, 541, 876, 543), (1444, 665, 1449, 667), (1007, 1115, 1012, 1116), (954, 1380, 959, 1382), (1307, 711, 1309, 717), (1184, 763, 1189, 764), (1546, 276, 1552, 278), (276, 573, 278, 579), (904, 281, 906, 285), (927, 308, 931, 310), (911, 308, 915, 310), (948, 103, 950, 106), (1046, 306, 1047, 310), (968, 310, 970, 313), (1014, 311, 1017, 313), (1012, 318, 1016, 320), (906, 257, 909, 258), (897, 350, 901, 352), (918, 356, 920, 359), (908, 356, 909, 359), (908, 364, 911, 366), (939, 349, 943, 350), (931, 350, 934, 352), (955, 341, 959, 343), (975, 349, 978, 350), (982, 395, 984, 398), (984, 384, 985, 387), (1016, 410, 1017, 414), (993, 426, 994, 430), (1044, 386, 1047, 387), (1198, 361, 1201, 363), (1200, 370, 1201, 373), (1169, 488, 1171, 492), (1129, 488, 1131, 492), (1138, 494, 1139, 497), (1150, 356, 1152, 359), (1072, 341, 1074, 345), (1106, 313, 1109, 315), (1131, 359, 1132, 363), (1219, 478, 1221, 481), (1070, 395, 1074, 396), (1058, 395, 1062, 396), (1054, 405, 1058, 407), (828, 520, 832, 522), (950, 444, 952, 448), (943, 453, 947, 455), (941, 460, 943, 464), (1074, 433, 1077, 435), (1100, 433, 1102, 437), (1099, 421, 1100, 425), (1115, 423, 1116, 426), (1166, 403, 1169, 405), (1297, 55, 1299, 58), (1247, 290, 1251, 292), (1069, 352, 1072, 354), (1274, 451, 1277, 453), (1267, 485, 1269, 488), (1235, 490, 1237, 494), (1076, 370, 1079, 372), (1118, 345, 1120, 349), (1141, 341, 1145, 343), (1129, 341, 1131, 345), (1169, 502, 1171, 506), (1256, 449, 1258, 453), (996, 490, 1000, 492), (957, 373, 959, 377), (1000, 541, 1003, 543), (835, 633, 839, 635), (842, 623, 846, 625), (950, 690, 952, 694), (883, 748, 886, 750), (832, 731, 835, 732), (793, 858, 796, 860), (985, 748, 989, 750), (1069, 768, 1072, 770), (1161, 832, 1162, 835), (1178, 824, 1180, 828), (1090, 844, 1093, 846), (991, 879, 993, 883), (1208, 814, 1212, 816), (1185, 833, 1189, 835), (1214, 828, 1217, 830), (1184, 870, 1185, 874), (1237, 828, 1238, 832), (1116, 885, 1118, 888), (1283, 764, 1284, 768), (1279, 782, 1283, 784), (1307, 757, 1309, 761), (87, 961, 90, 962), (1408, 290, 1412, 292), (1396, 428, 1398, 432), (1339, 433, 1341, 437), (1339, 490, 1341, 494), (1320, 492, 1323, 494), (977, 686, 980, 688), (1327, 782, 1329, 786), (1297, 846, 1299, 849), (1203, 743, 1205, 747), (1221, 1253, 1224, 1254), (1182, 1175, 1184, 1178), (1230, 1150, 1231, 1154), (863, 1619, 867, 1621), (1076, 743, 1077, 747), (1224, 748, 1226, 752), (1111, 773, 1113, 777), (1115, 784, 1118, 786), (1456, 846, 1458, 849), (1424, 738, 1426, 741), (1088, 1267, 1092, 1269), (1042, 1226, 1044, 1230), (869, 1569, 872, 1571), (1127, 193, 1131, 195), (1430, 428, 1431, 432), (1132, 221, 1136, 223), (1118, 287, 1120, 290), (1040, 246, 1044, 248), (1031, 260, 1033, 264), (1062, 317, 1065, 318), (1090, 366, 1093, 368), (1097, 350, 1100, 352), (1104, 301, 1108, 303), (375, 333, 377, 336), (1095, 402, 1099, 403), (1127, 412, 1129, 416), (966, 492, 968, 495), (970, 504, 973, 506), (1031, 534, 1033, 538), (1047, 441, 1051, 442), (1054, 444, 1058, 446), (1054, 455, 1056, 458), (1178, 418, 1180, 421), (1189, 425, 1191, 428), (1024, 596, 1028, 598), (1028, 589, 1031, 591), (964, 656, 966, 660), (807, 621, 810, 623), (817, 628, 821, 630), (955, 352, 957, 354), (1001, 410, 1003, 412), (768, 350, 770, 352), (955, 435, 957, 437), (1039, 559, 1040, 561), (1203, 338, 1205, 340), (1212, 331, 1214, 333), (1127, 331, 1129, 333), (738, 384, 740, 386), (858, 534, 860, 536), (982, 773, 984, 775), (1076, 784, 1077, 786), (1085, 784, 1086, 786), (1131, 842, 1132, 844), (948, 847, 950, 849), (984, 876, 985, 878), (1194, 812, 1196, 814), (1157, 879, 1159, 881), (1359, 416, 1361, 418), (1338, 432, 1339, 433), (906, 580, 908, 582), (872, 1626, 874, 1628), (869, 1686, 870, 1688), (1132, 747, 1134, 748), (1097, 750, 1099, 752), (1102, 784, 1104, 786), (1546, 982, 1548, 984), (1555, 982, 1557, 984), (736, 1391, 738, 1392), (338, 111, 340, 113), (989, 129, 991, 131), (925, 48, 927, 50), (1115, 189, 1116, 191), (1601, 287, 1603, 288), (1523, 248, 1525, 249), (1539, 400, 1541, 402), (1582, 414, 1583, 416), (1224, 347, 1226, 349), (1180, 363, 1182, 364), (1005, 341, 1007, 343), (391, 214, 393, 216), (400, 232, 402, 234), (350, 352, 352, 354), (269, 407, 271, 409), (409, 462, 410, 464), (380, 400, 382, 402), (899, 446, 901, 448), (1005, 350, 1007, 352), (996, 338, 998, 340), (1077, 481, 1079, 483), (1099, 476, 1100, 478), (1116, 527, 1118, 529), (1047, 435, 1049, 437), (1012, 471, 1014, 472), (1162, 421, 1164, 423), (1192, 433, 1194, 435), (1240, 501, 1242, 502), (1178, 485, 1180, 487), (1422, 485, 1424, 487), (1435, 483, 1437, 485), (1713, 453, 1714, 455), (1527, 587, 1529, 589), (1221, 619, 1223, 621), (1012, 676, 1014, 678), (971, 679, 973, 681), (835, 603, 837, 605), (826, 603, 828, 605), (931, 642, 932, 644), (835, 593, 837, 594), (336, 656, 338, 658), (274, 639, 276, 640), (306, 573, 308, 575), (322, 617, 324, 619), (386, 552, 387, 554), (308, 529, 310, 531), (740, 740, 741, 741), (800, 748, 801, 750), (824, 731, 826, 732), (849, 800, 851, 801), (858, 805, 860, 807), (909, 745, 911, 747)
